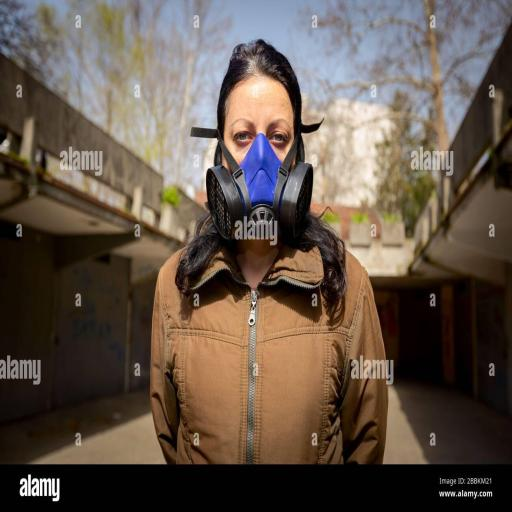mask: (204, 138, 324, 256)
